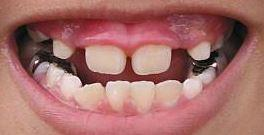Caries: (192, 48, 225, 76), (37, 51, 76, 74)
Hypodontia: (170, 47, 197, 67)
